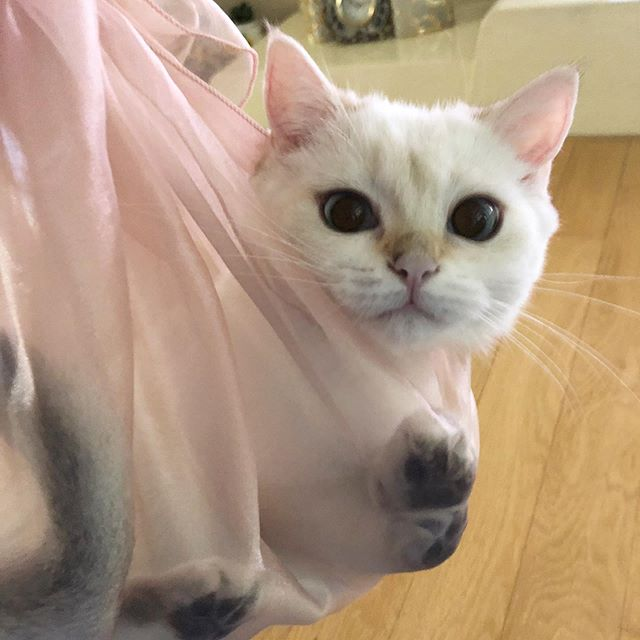cat: (248, 31, 581, 356)
